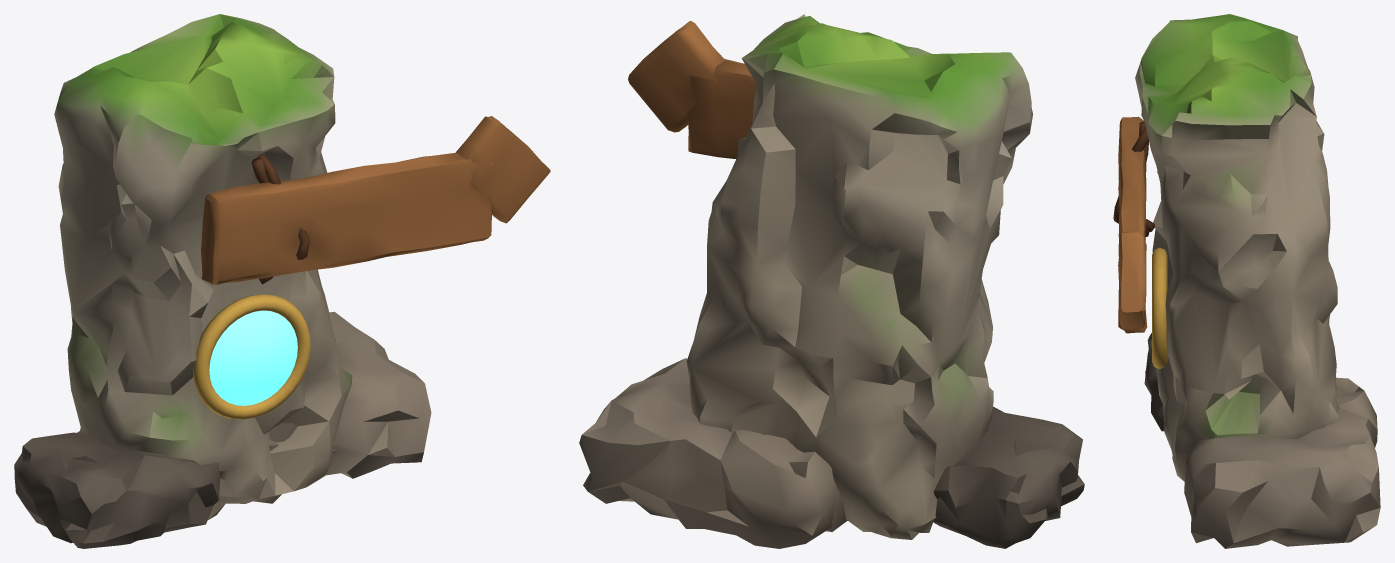
File: int_ability_signpost.glb
3 renders of one model, left to right at view 1: azimuth 30°, elevation 25°; view 2: azimuth 150°, elevation 25°; view 3: azimuth 270°, elevation 25°, orthographic. The views are drawn at different scales.
Parts seen in each view (by area): view 1: int_ability_signpost, emblem; view 2: int_ability_signpost; view 3: int_ability_signpost, emblem.
Boxes of the visible parts, bbox=[...] form: int_ability_signpost: bbox=[14, 14, 550, 548]; emblem: bbox=[193, 294, 310, 419]; int_ability_signpost: bbox=[579, 14, 1084, 548]; int_ability_signpost: bbox=[1113, 14, 1380, 548]; emblem: bbox=[1152, 247, 1167, 368].
Size of the model in its own units: 3.1 by 2.96 by 1.71.
